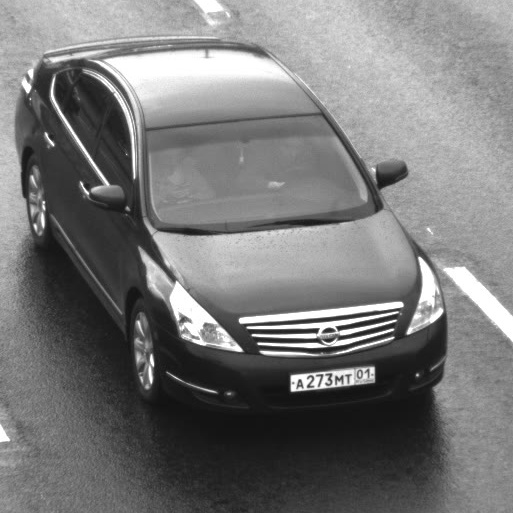plate: (278, 354, 384, 400)
